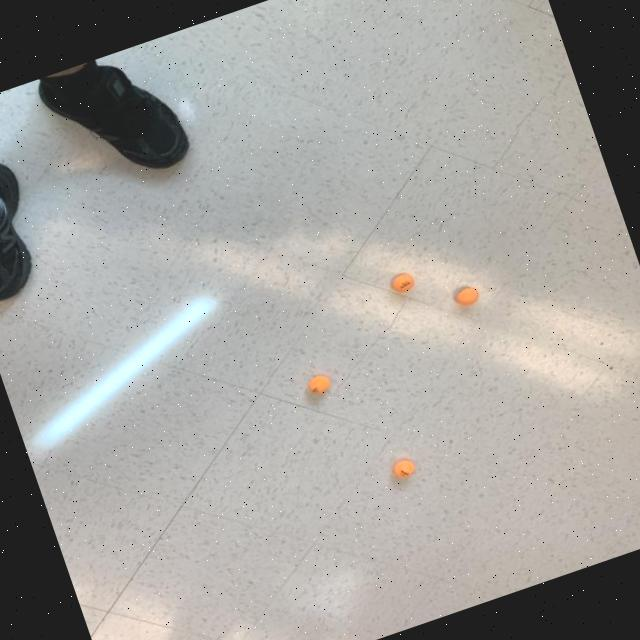ping-pong-ball: (448, 279, 487, 314), (388, 268, 420, 298), (302, 370, 336, 397), (389, 454, 419, 482)
